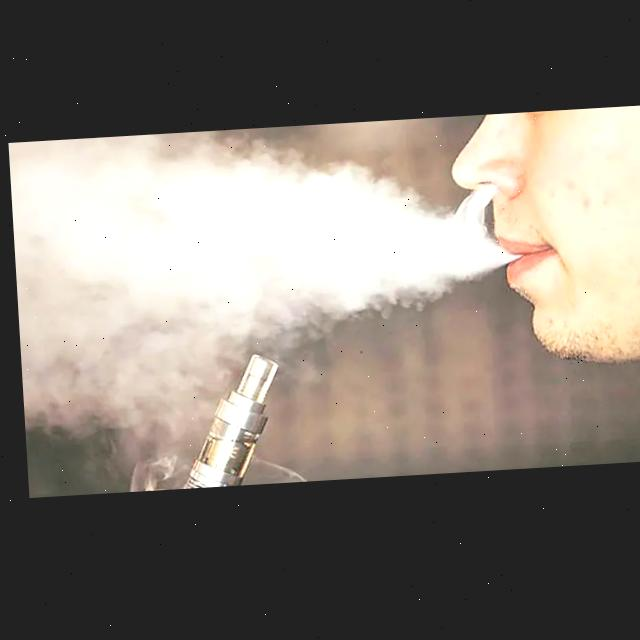vape: (170, 351, 282, 490)
